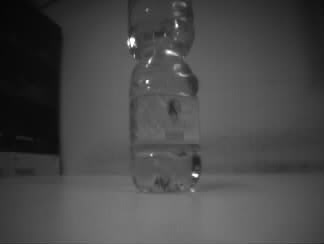Bottle: (126, 1, 203, 194)
